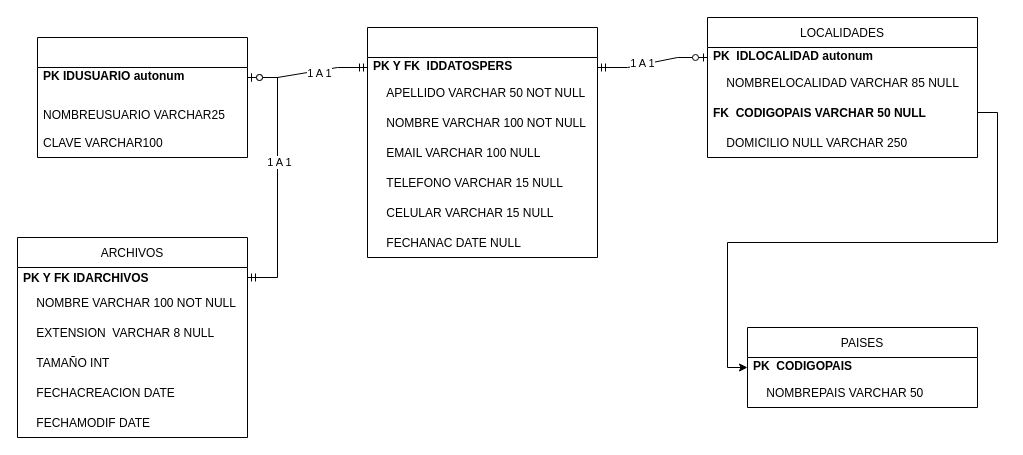
This 1023x455 diagram has some shape labels left out. Here are the shapes that lost their labels. From the top down, the box of each, then its label:
(36, 36, 248, 158): USUARIOS
(366, 26, 598, 258): DATOSPERSONALES
